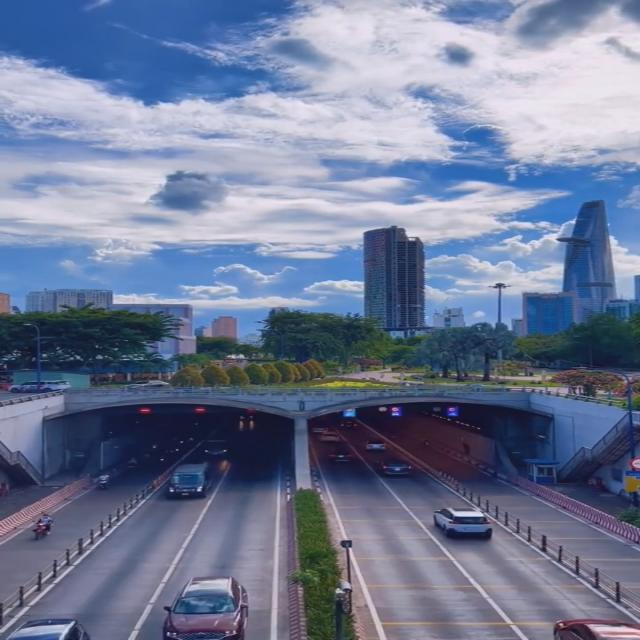car: (165, 578, 249, 640), (436, 502, 494, 540), (554, 617, 640, 640), (0, 619, 92, 640), (379, 459, 413, 476), (329, 449, 358, 464)
motorbike: (31, 512, 55, 542), (97, 474, 110, 489)
truck: (166, 462, 208, 501)
